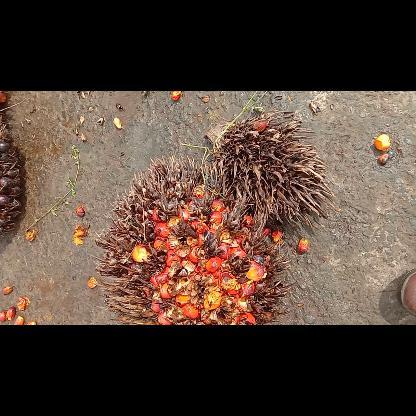Janjang kosong: (206, 110, 335, 228)
Terlalu masak: (87, 154, 294, 324)
